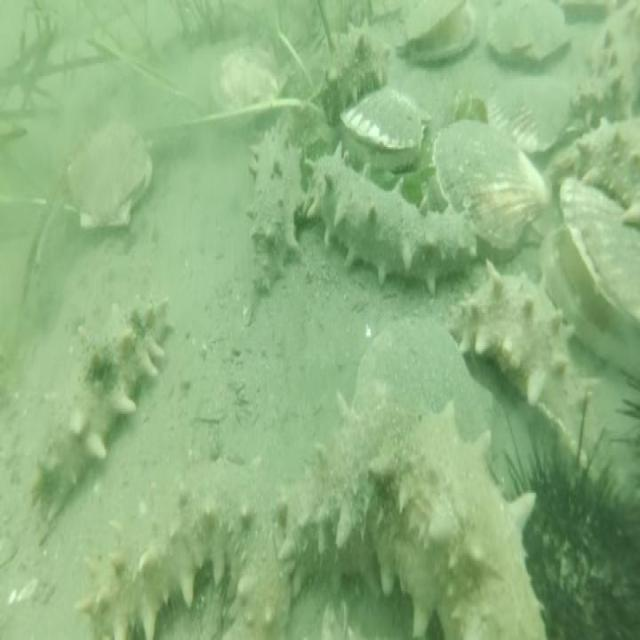echinus: (517, 422, 640, 640)
holothurian: (271, 377, 551, 640), (449, 264, 627, 520), (74, 437, 296, 640), (26, 286, 178, 547), (305, 139, 480, 300), (243, 109, 305, 300), (321, 16, 390, 128), (576, 114, 640, 230), (570, 27, 626, 133)
scallop: (538, 169, 640, 384), (428, 116, 554, 260), (349, 313, 497, 419), (66, 115, 154, 239), (338, 84, 428, 172), (485, 75, 578, 156), (211, 38, 289, 131), (484, 0, 572, 76), (393, 0, 479, 71)
